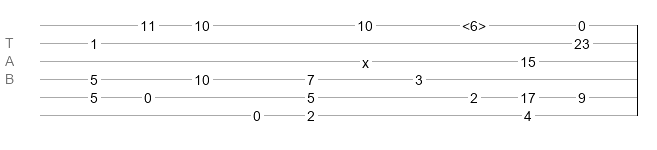0: (144, 90, 152, 100), (253, 108, 261, 118), (578, 18, 586, 28)
1: (90, 36, 98, 46)
10: (194, 72, 210, 82), (194, 18, 210, 28), (357, 18, 373, 28)
11: (140, 18, 156, 28)
15: (520, 54, 536, 64)
17: (520, 90, 536, 100)
2: (307, 108, 315, 118), (470, 90, 478, 100)
23: (574, 36, 590, 46)
3: (415, 72, 423, 82)
4: (524, 108, 532, 118)
5: (90, 90, 98, 100), (90, 72, 98, 82), (307, 90, 315, 100)
7: (307, 72, 315, 82)
9: (578, 90, 586, 100)
harmonic: (462, 18, 486, 28)
x: (362, 55, 369, 63)
